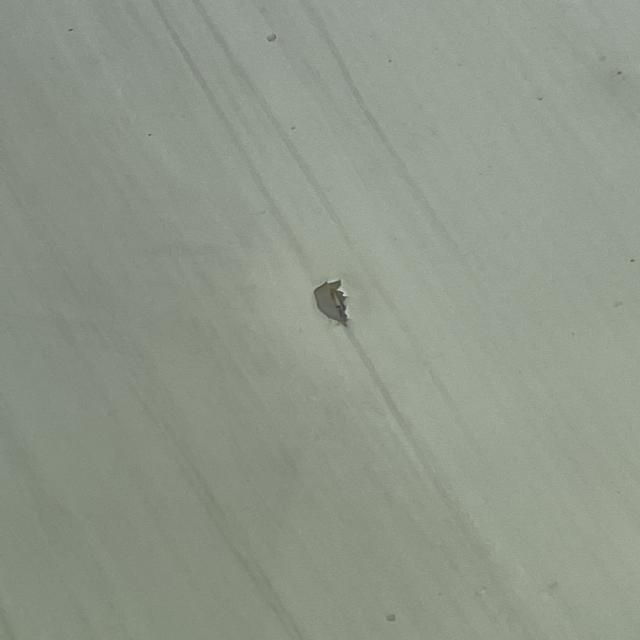crack: (288, 279, 345, 337)
